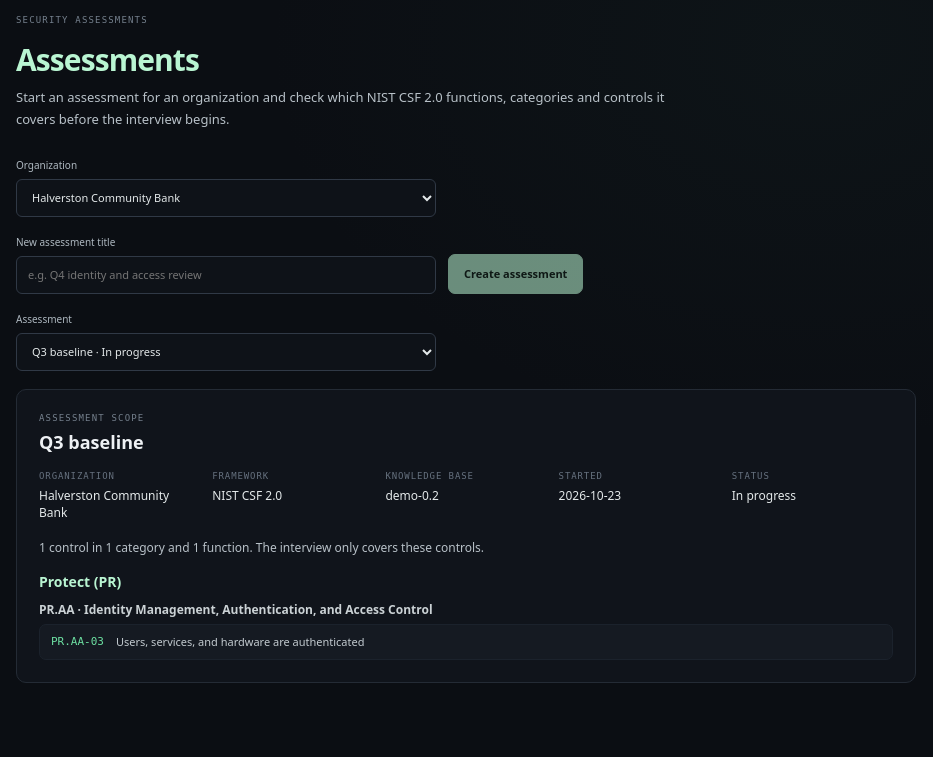
AssessmentWorkspace › lets a consultant create an assessment and then shows its scope
This screenshot has width=933, height=757.
Expected: the heading "Q3 baseline" is shown, [39,430,144,454]
Type "  Q4 identity review  " into the field labelled "New assessment title".
click(226, 275); type("  Q4 identity review  ")  # box [16,256,436,294]
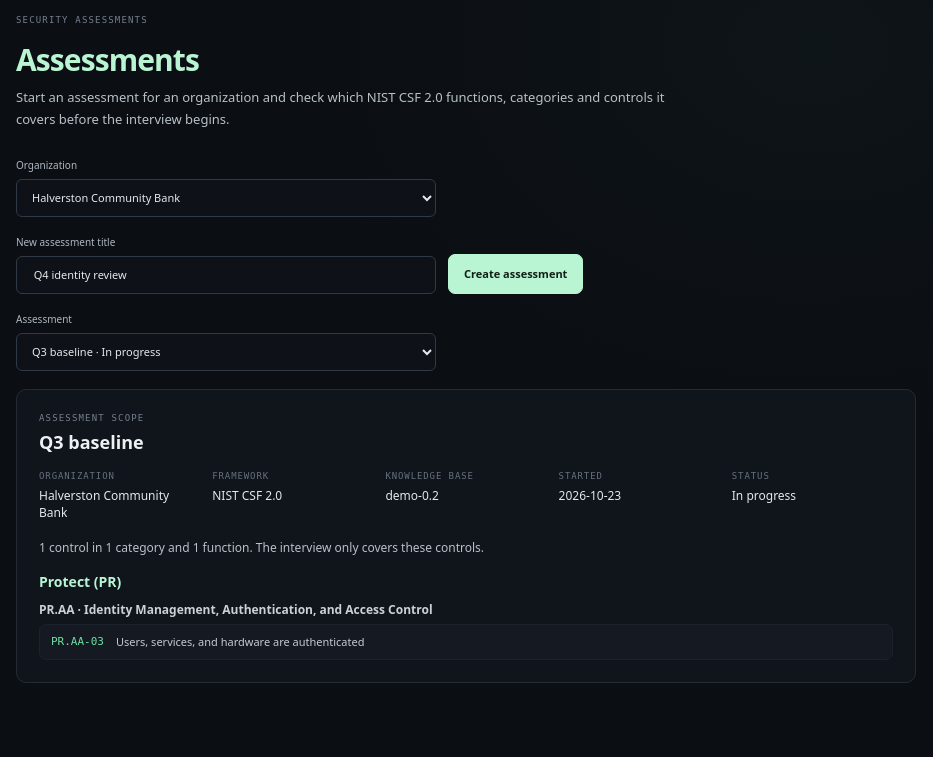
Click the button "Create assessment".
click(516, 274)  # box [448,254,583,294]
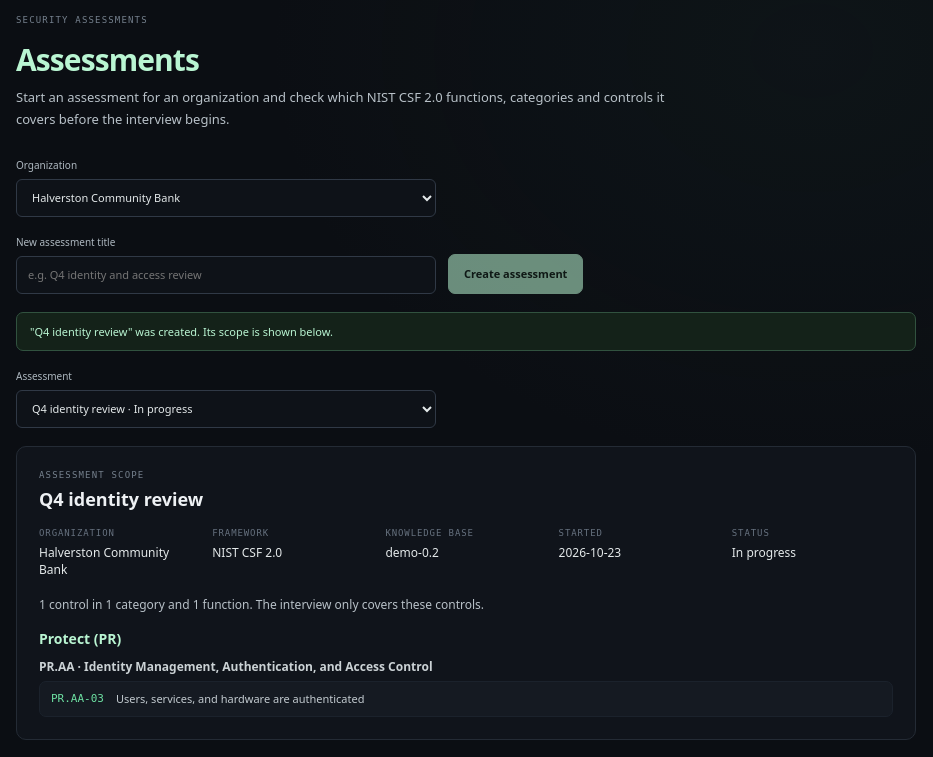
Expected: the heading "Q4 identity review" is shown, [39,487,203,511]
Expected: the dropdown labelled "Assessment" shows "Q4 identity review · In progress"
Expected: the text "\"Q4 identity review\" was created. Its scope is shown below." is shown, [16,312,916,351]
Select "Q3 baseline · In progress" in the dropdown labelled "Assessment" at (226, 409), box [16,390,436,428]
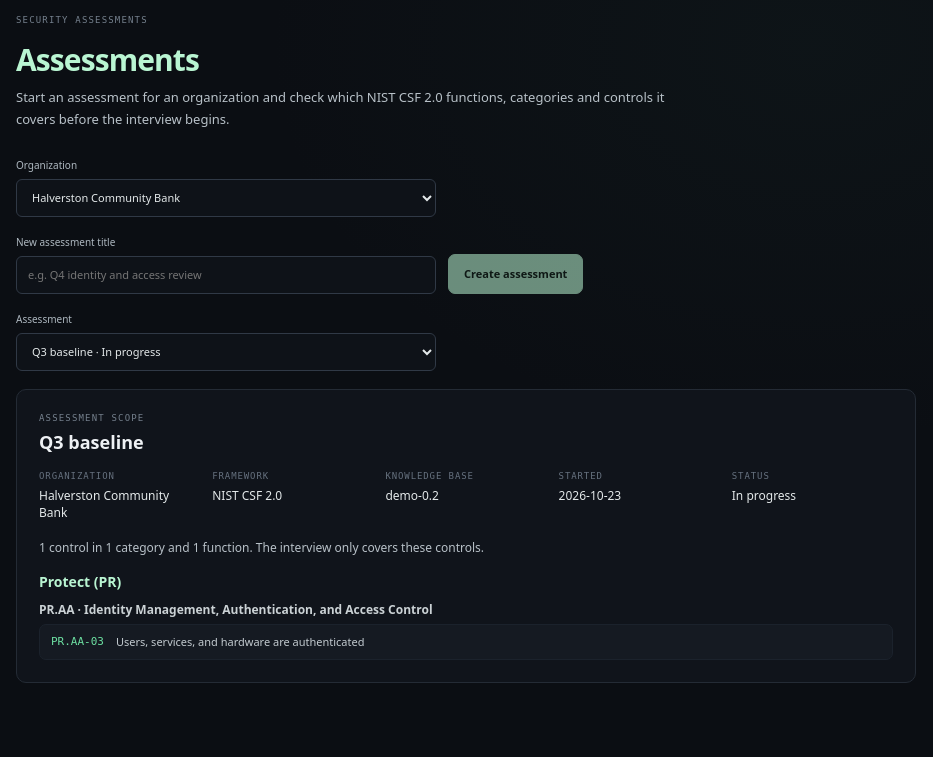
Expected: the heading "Q3 baseline" is shown, [39,430,144,454]
Expected: the text "was created" is gone
